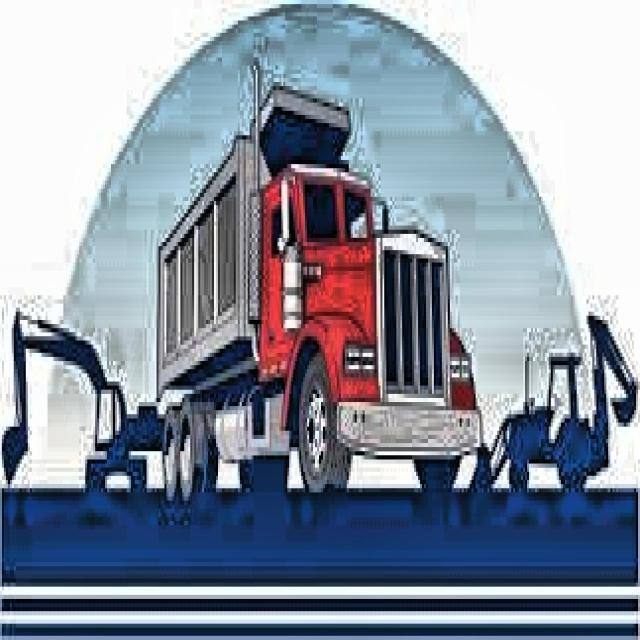dump_truck: (152, 72, 484, 498)
